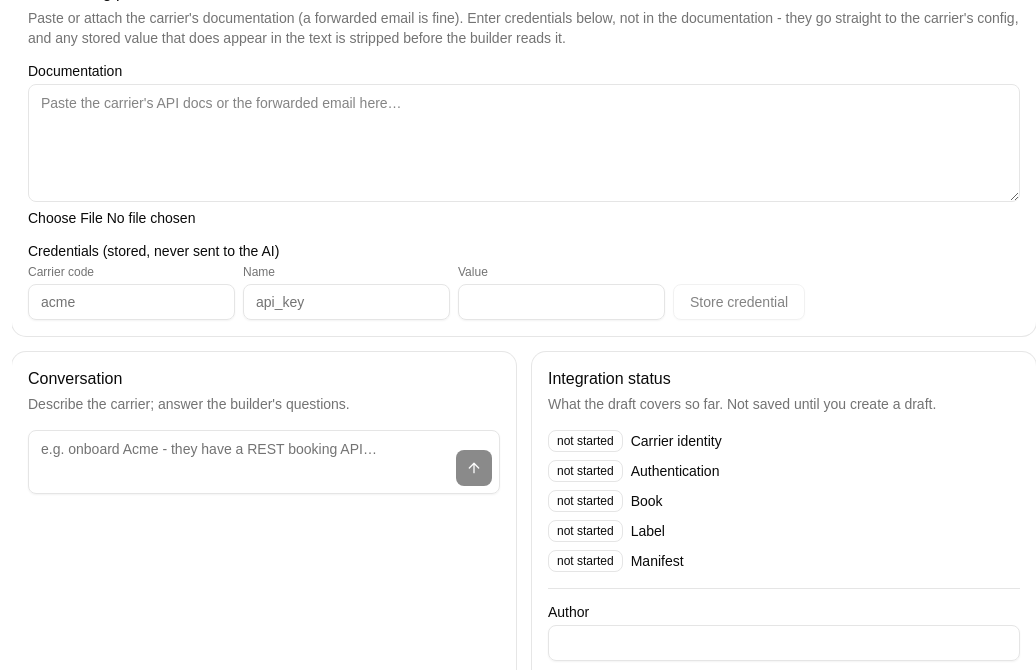
CarrierBuilderPage › shows the engineering handoffs the turn raised or consumed
Type "onboard acme" into the text box named "message the carrier builder". click: (264, 462)
box: [28,430,500,494]
Then press Enter
(page scrolled)
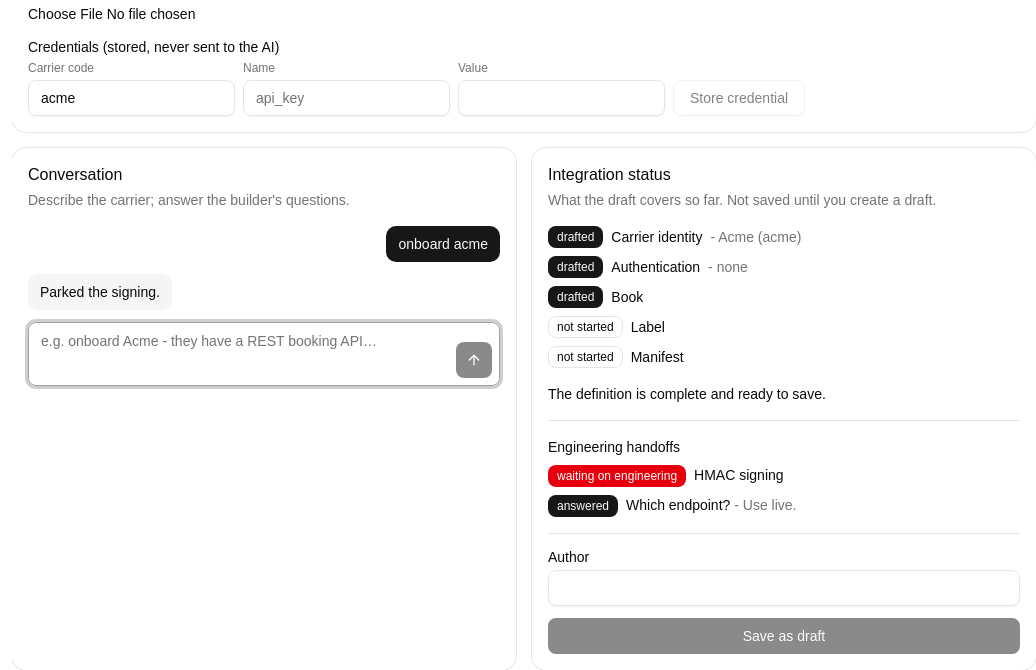
Check: the text "Parked the signing." is shown, box [28,274,172,310]
Check: the text "Engineering handoffs" is shown, box [548,439,680,455]
Check: the text "waiting on engineering" is shown, box [548,465,686,487]
